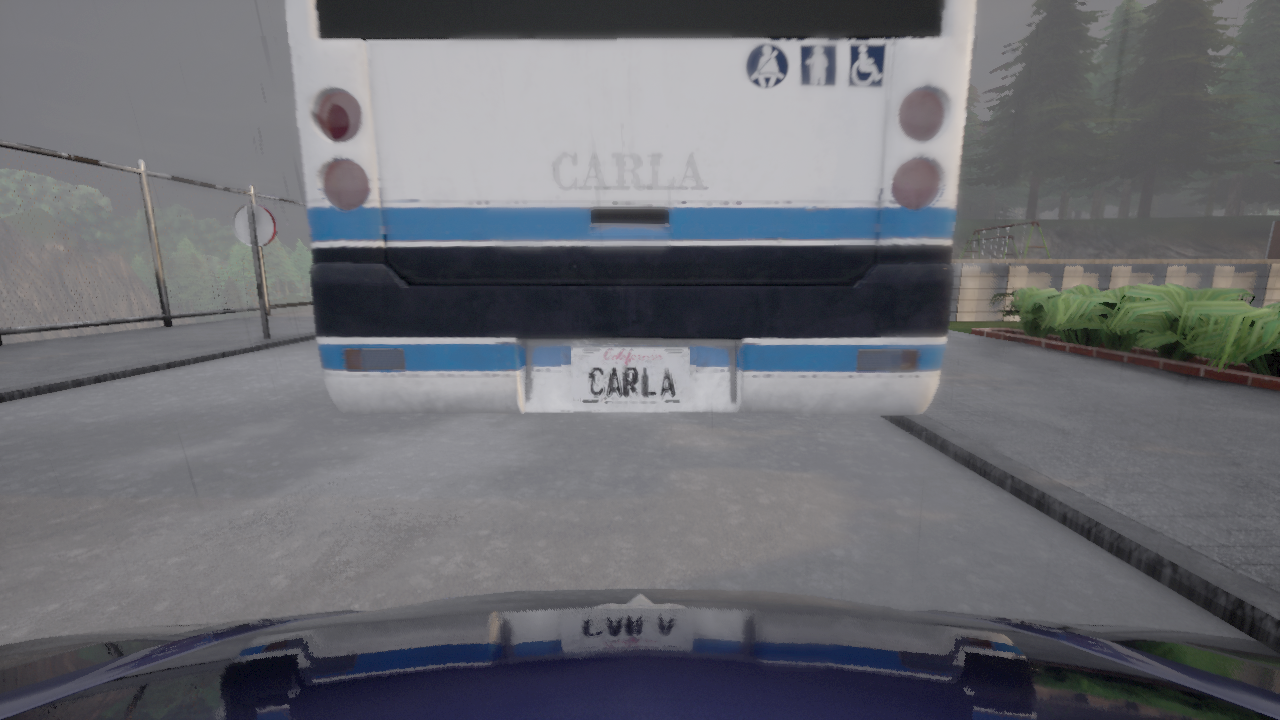cyclist: (285, 0, 975, 414), (0, 588, 1279, 719)
